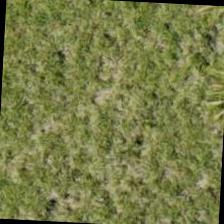Kelapa_Sawit: (174, 3, 223, 55)
